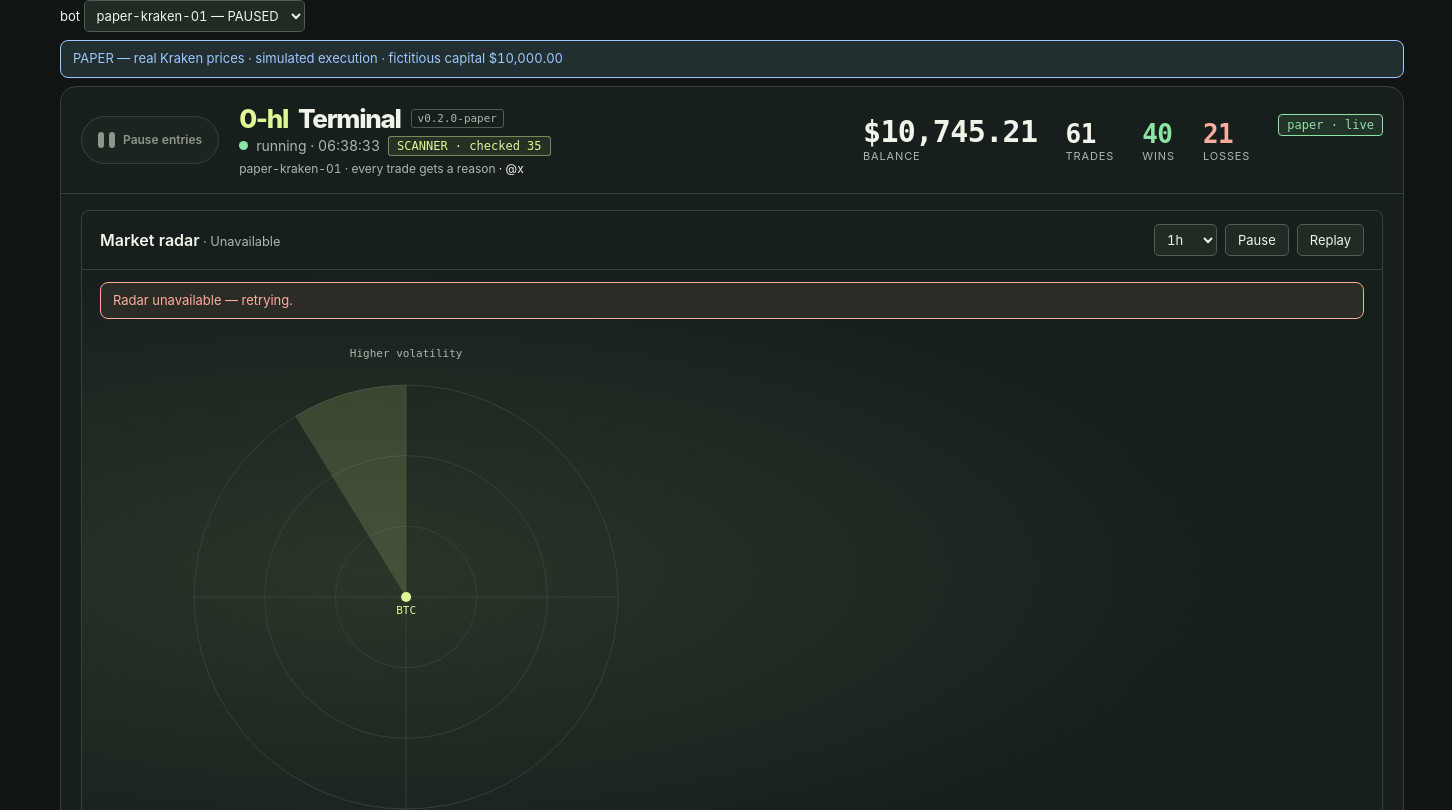
Test: lists the bots and keeps the choice in the URL
The image size is (1452, 810).
Select "paper-b — RUNNING" in the dropdown labelled "bot": (194, 16) left=84, top=0, right=304, bottom=32
(page scrolled)
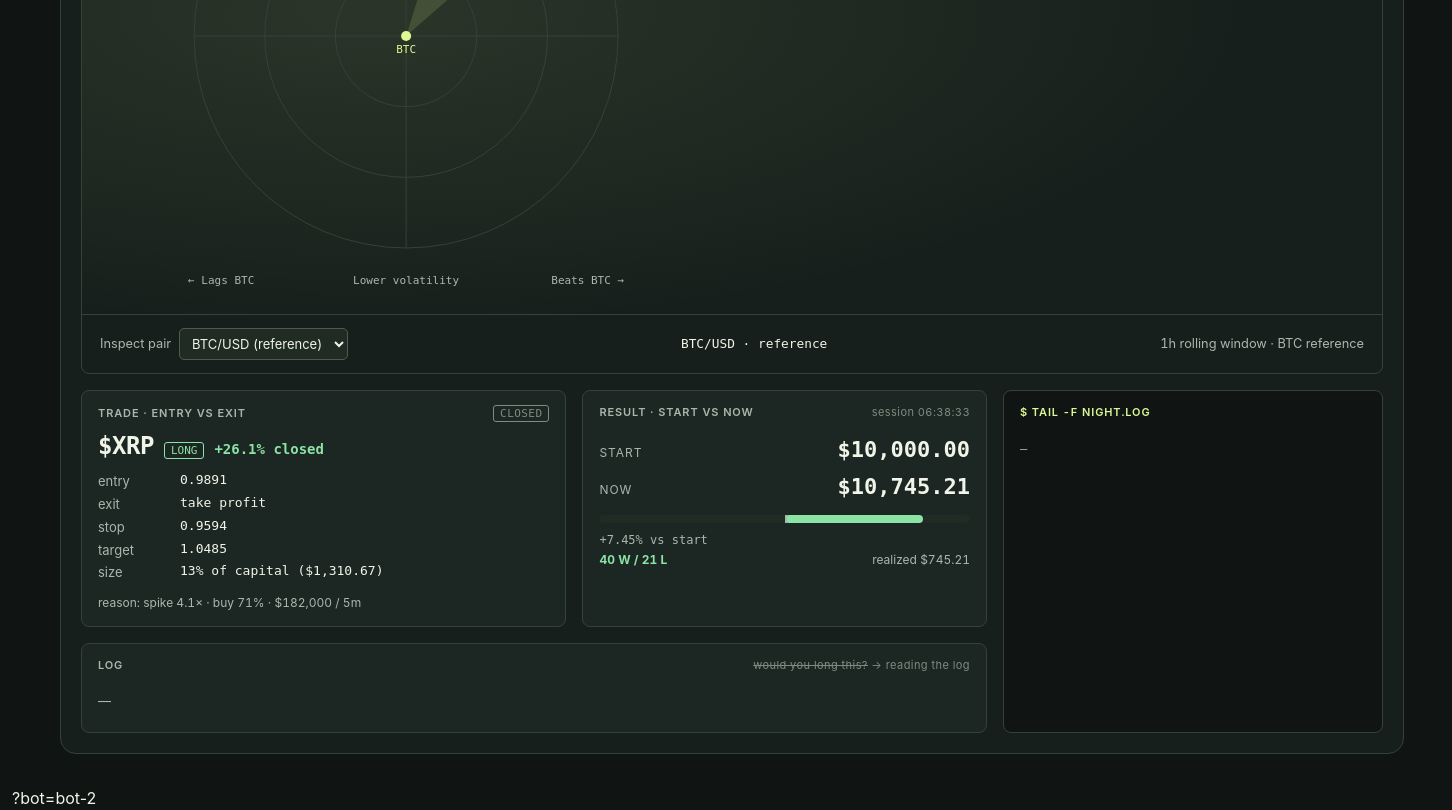
Expected: the text with test id "where" reads "?bot=bot-2", left=12, top=788, right=96, bottom=808
